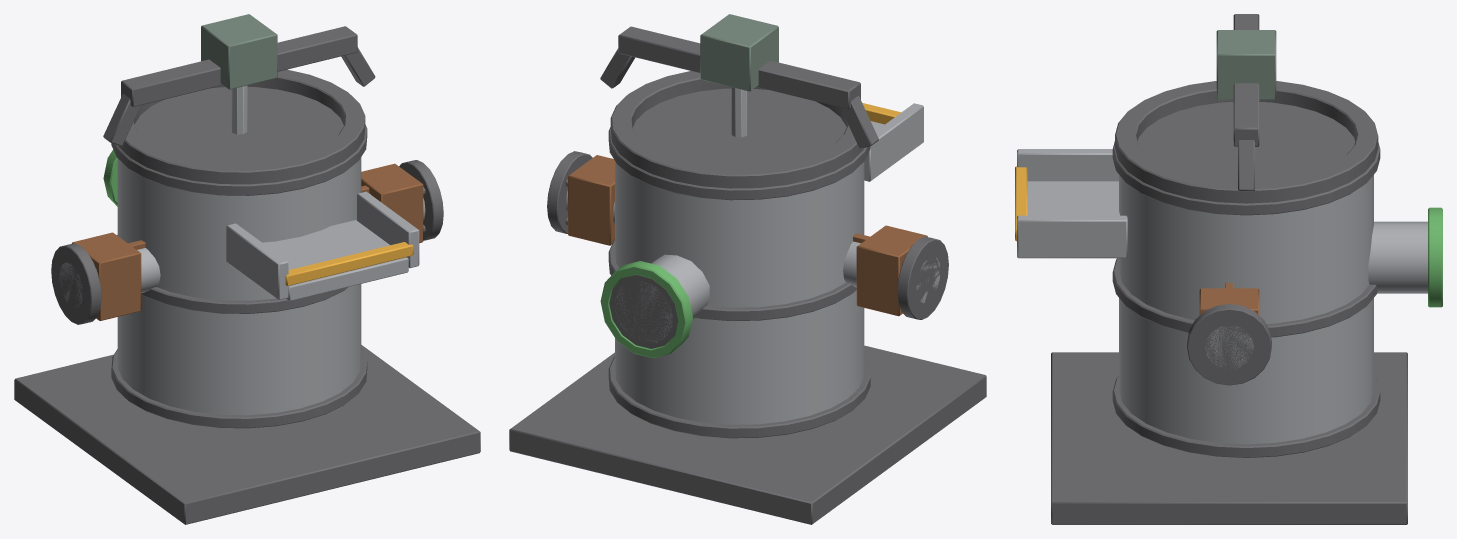
Rendered from feChemMixer.fbx.
3 renders of one model, left to right at view 1: azimuth 30°, elevation 25°; view 2: azimuth 150°, elevation 25°; view 3: azimuth 270°, elevation 25°, orthographic. The views are drawn at different scales.
Visible parts, largest first — view 1: feChemMixer_Base, FeSpin_DriveShaft.001, FeSpin_x0.5_Stirrer; view 2: feChemMixer_Base, FeSpin_DriveShaft.001, FeSpin_x0.5_Stirrer; view 3: feChemMixer_Base, FeSpin_DriveShaft.001.
Part boxes in pixels (x1,y1,x2,y2): feChemMixer_Base: (14,14,480,524); FeSpin_DriveShaft.001: (51,160,443,324); FeSpin_x0.5_Stirrer: (231,85,247,134); feChemMixer_Base: (509,14,986,524); FeSpin_DriveShaft.001: (547,151,948,319); FeSpin_x0.5_Stirrer: (731,87,747,137); feChemMixer_Base: (1015,14,1442,524); FeSpin_DriveShaft.001: (1187,282,1271,385).
Size of the model in its own units: 1 by 1.06 by 1.01.
